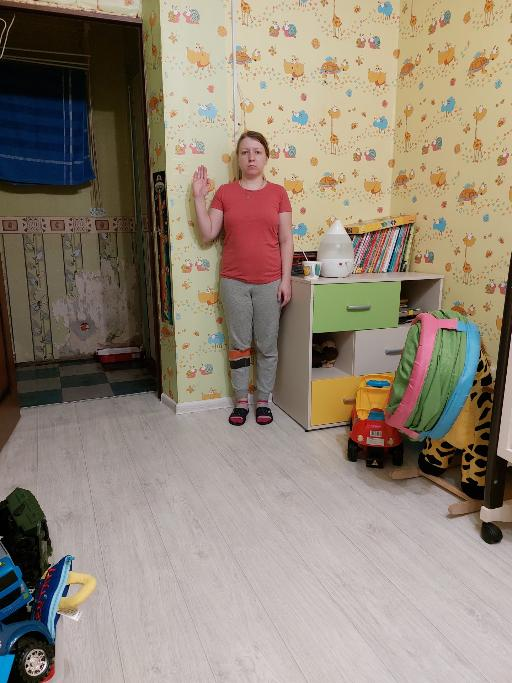no_gesture: (275, 278, 293, 309)
stop: (190, 164, 211, 199)
